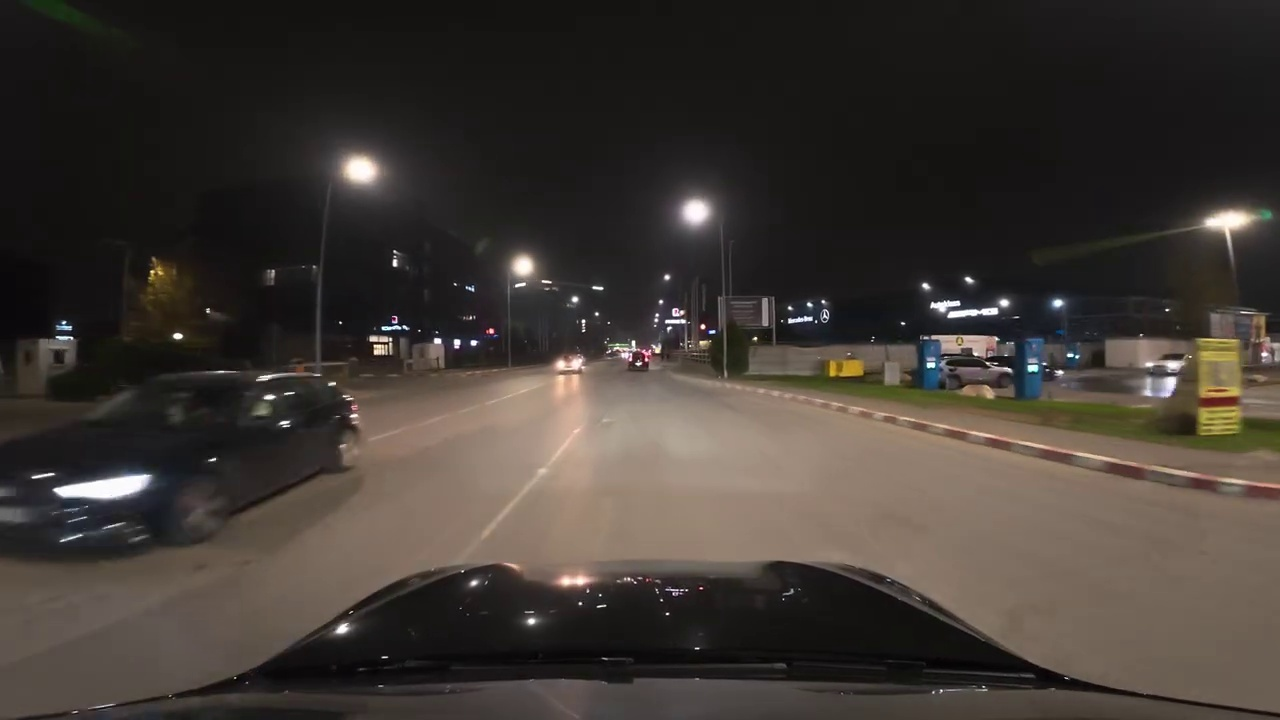acesa: (1203, 207, 1253, 237), (341, 155, 380, 187), (680, 197, 711, 227), (509, 253, 538, 282)
